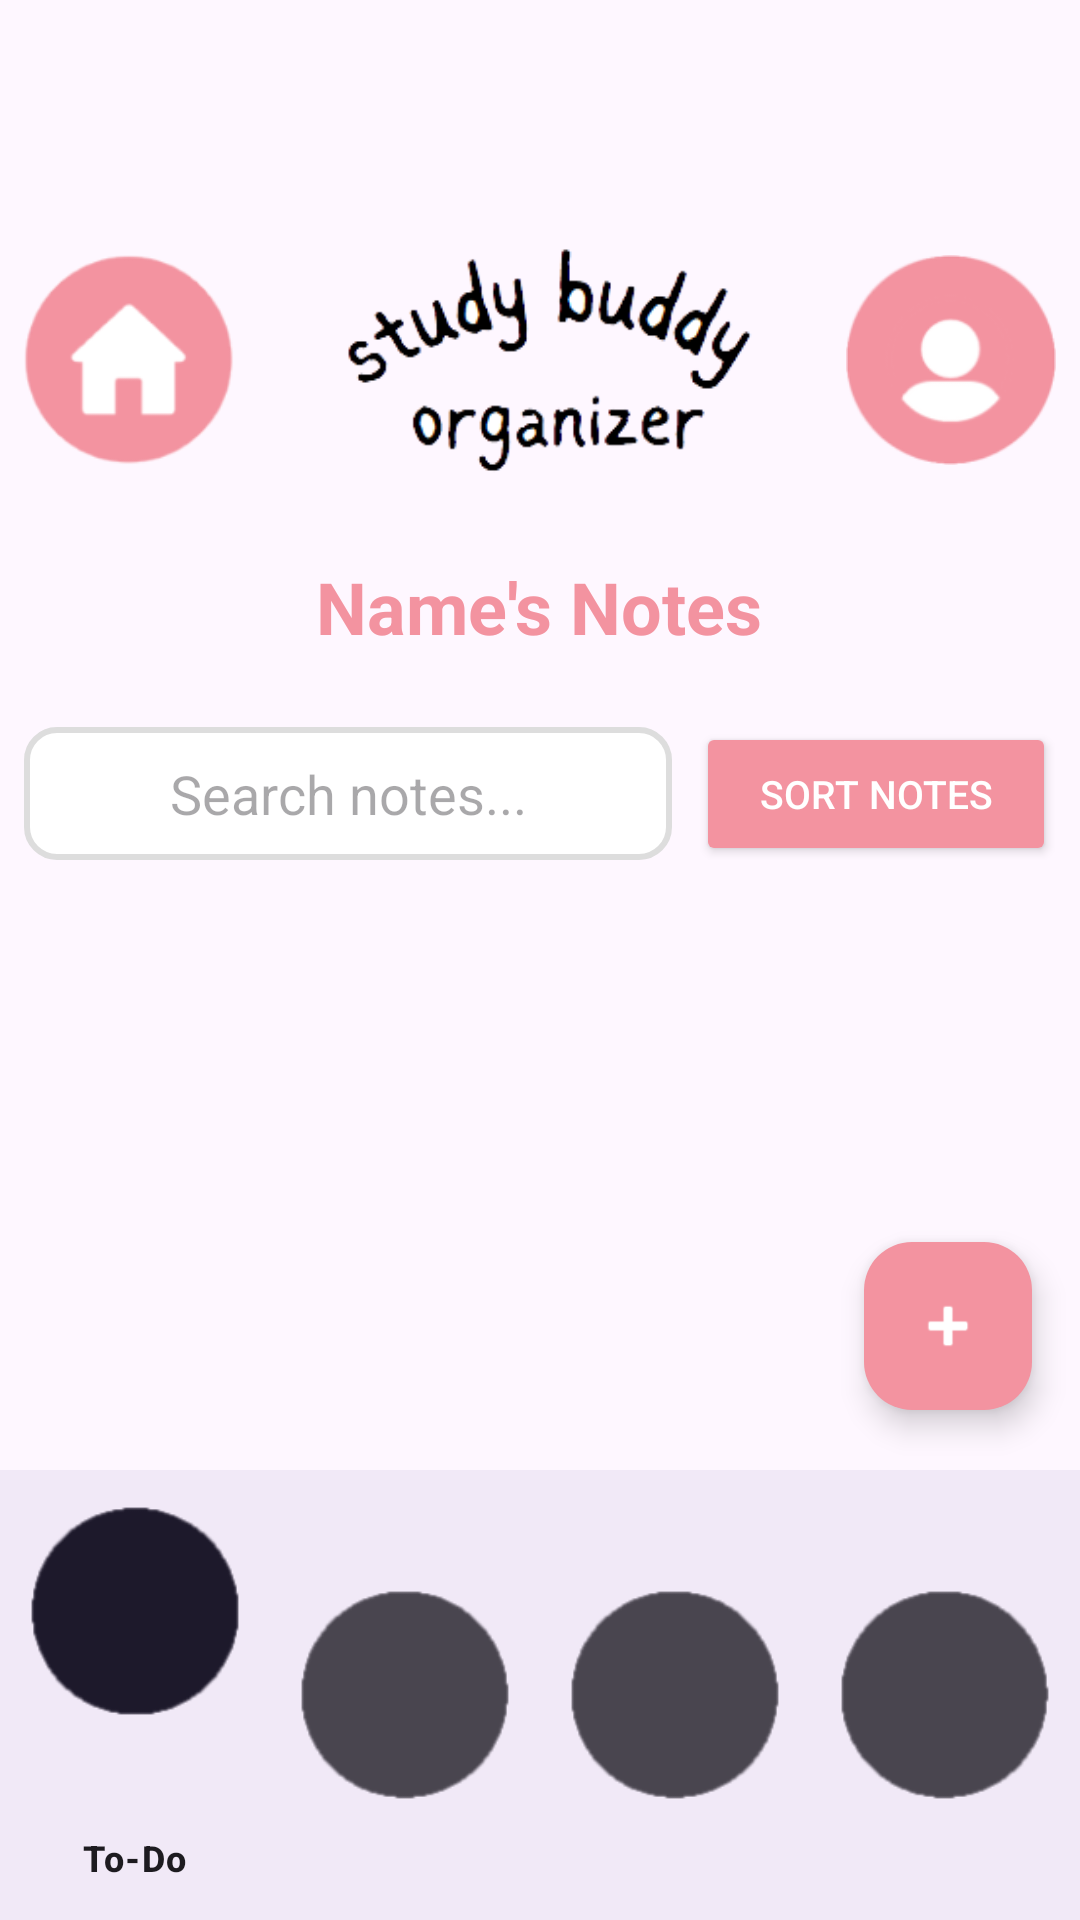

Where to tap for icons on this 1080×1920 app screen, as (x=x, y=y):
Add Event: (x=948, y=1326)
Home Button: (x=128, y=359)
Profile: (x=951, y=360)
